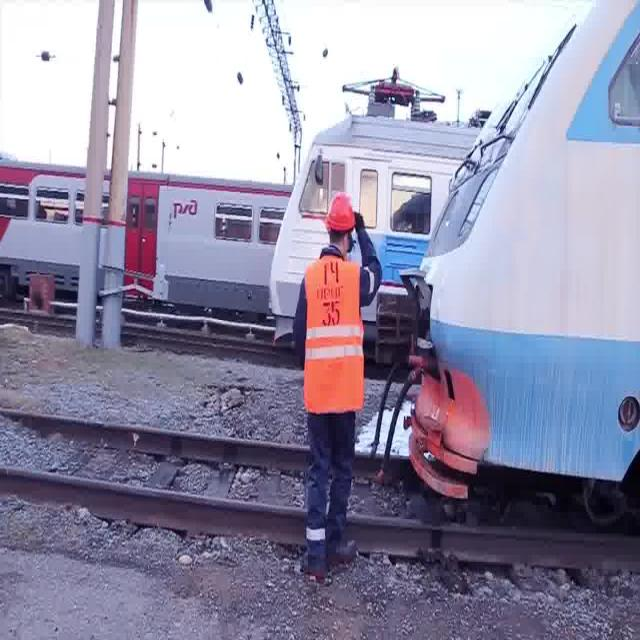class17: (324, 195, 357, 232)
class22: (292, 212, 379, 576)
glove: (303, 255, 366, 418)
